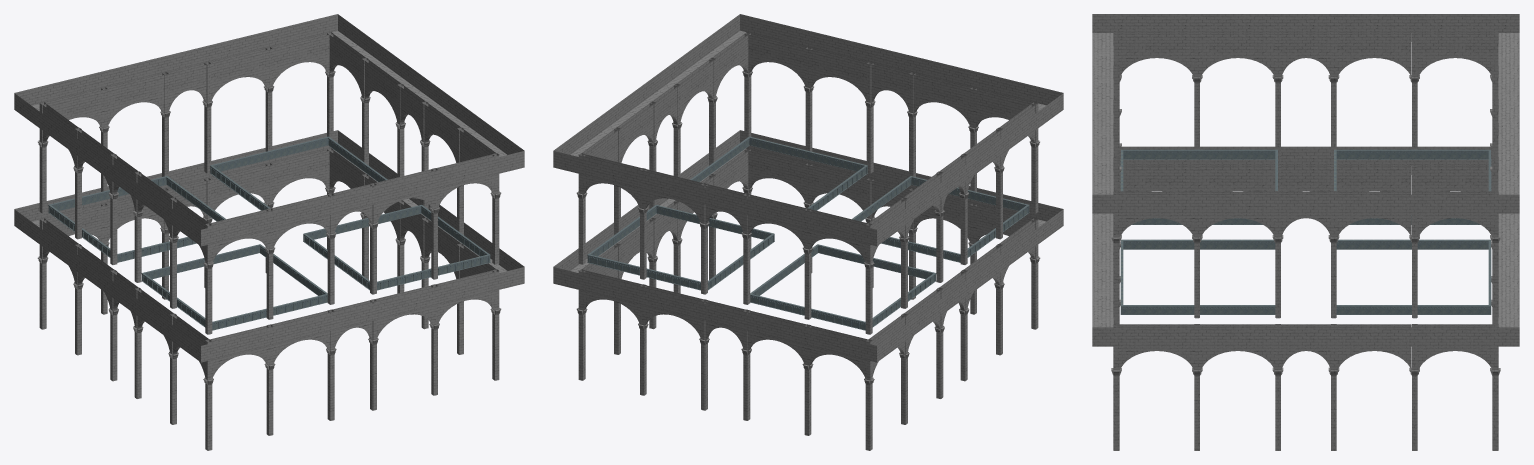
Rendered from FinalMap_Center_Outer.FBX.
3 renders of one model, left to right at view 1: azimuth 30°, elevation 25°; view 2: azimuth 150°, elevation 25°; view 3: azimuth 270°, elevation 25°, orthographic. The views are drawn at different scales.
Visible parts, largest first — view 1: FinalMap_Center_Outer; view 2: FinalMap_Center_Outer; view 3: FinalMap_Center_Outer.
Boxes of the visible parts, box(x1,y1,x2,y2) form: FinalMap_Center_Outer: box(14, 14, 524, 450); FinalMap_Center_Outer: box(553, 14, 1063, 450); FinalMap_Center_Outer: box(1092, 14, 1519, 450).
Size of the model in its own units: 1375 by 942 by 1375.
